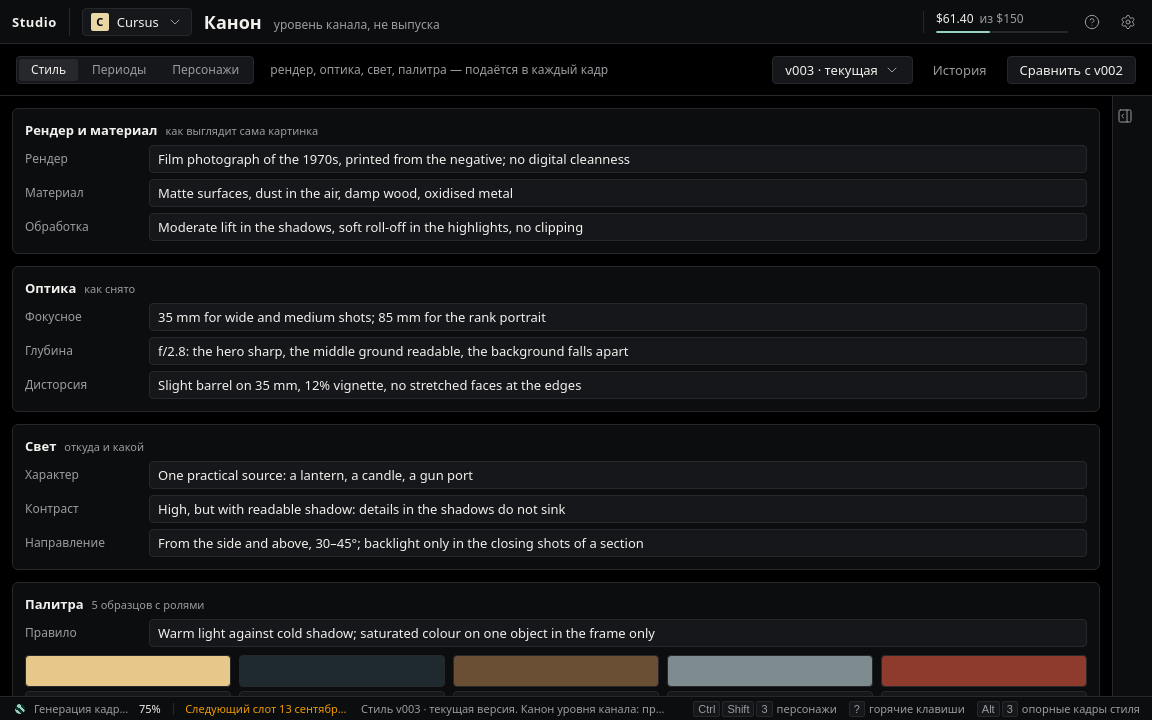
слой «Стиль» › отказ публикации 409 — все нарушения построчно, черновик остаётся
Clear the text box named "Рендер и материал: Рендер": {"x": 618, "y": 159} [149,145,1087,173]
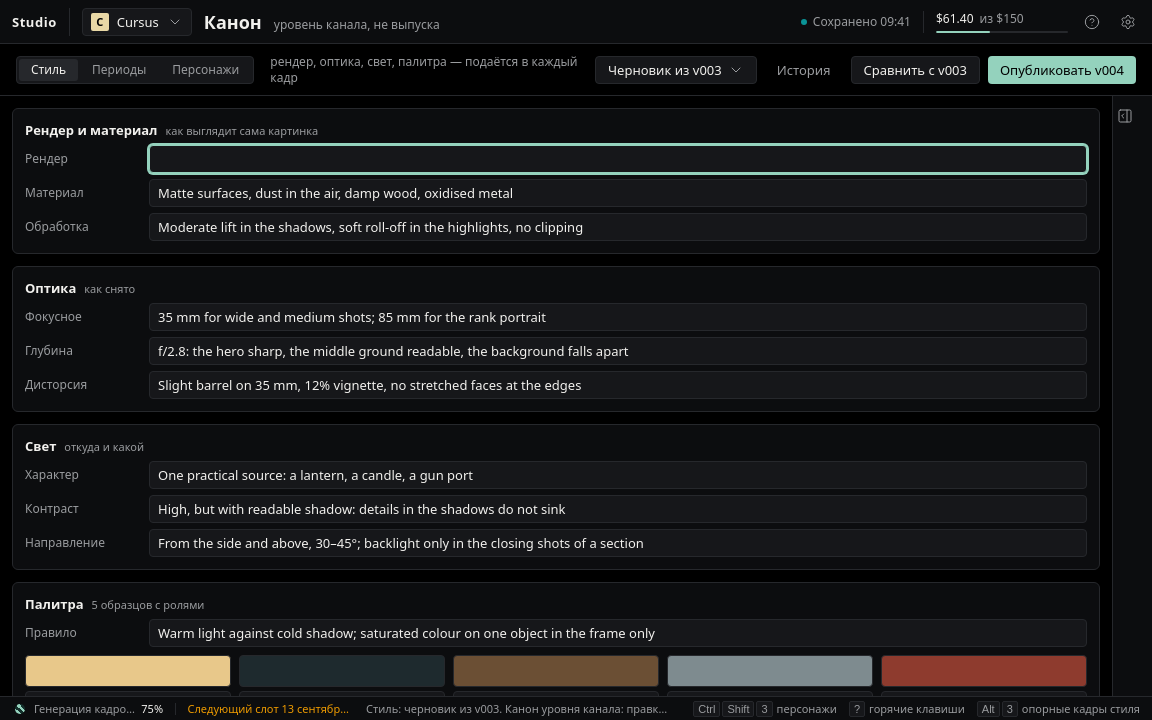
Click the button "Опубликовать v004": {"x": 1062, "y": 70} [988,56,1136,84]
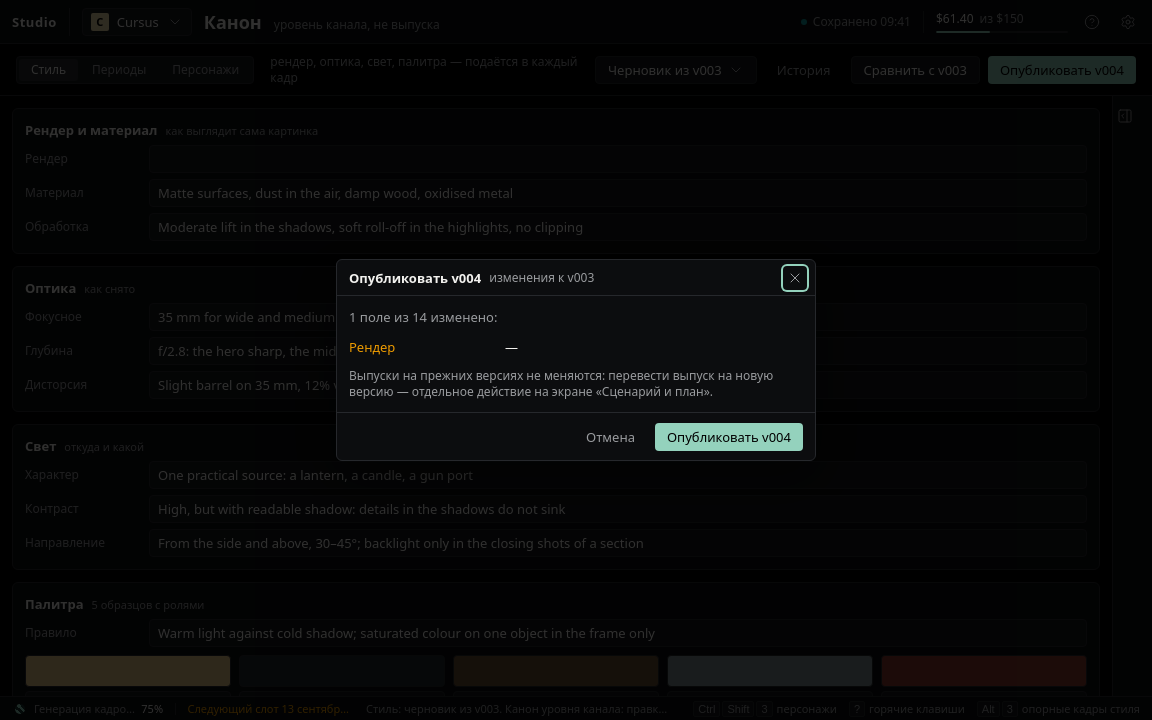
Click the button "Опубликовать v004": {"x": 729, "y": 436} [655,422,803,450]
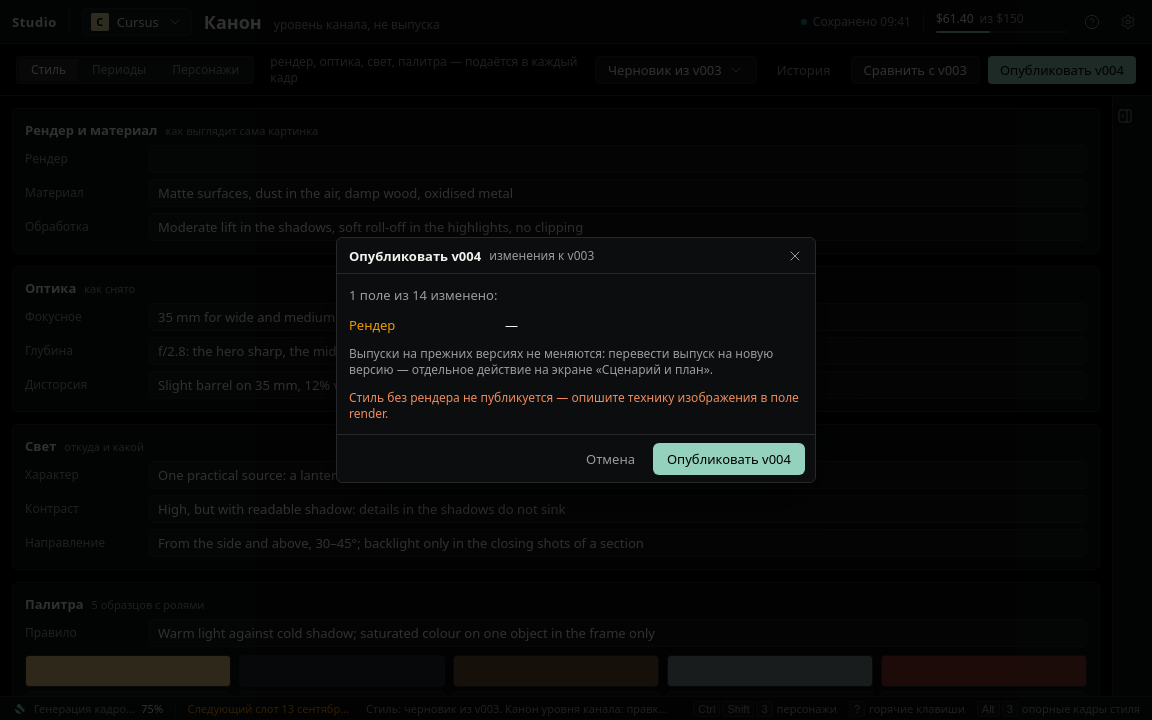
expect the list named "Что мешает опубликовать" shows "Стиль без рендера не публикуется": met, box [349,389,799,422]
